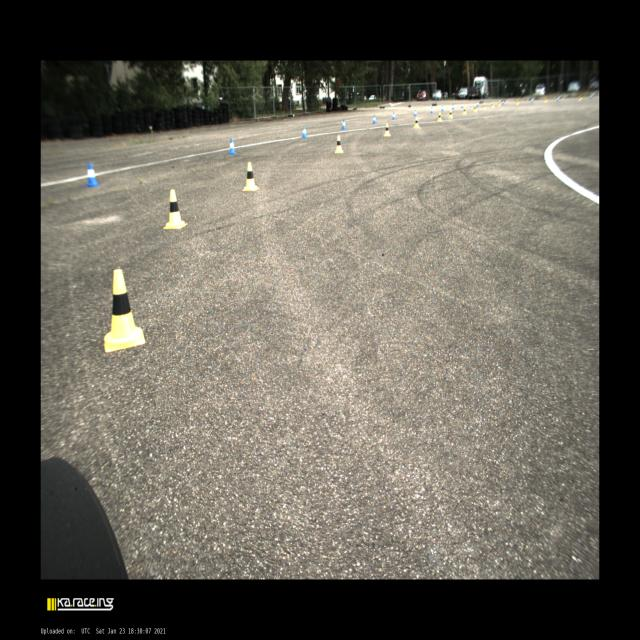blue_cone: (84, 162, 100, 186), (228, 138, 237, 154), (302, 126, 308, 138), (372, 115, 377, 124), (342, 119, 346, 130), (413, 109, 418, 117), (392, 112, 396, 120), (440, 105, 444, 112), (430, 106, 433, 113), (461, 103, 464, 108), (476, 102, 479, 107), (531, 98, 534, 103), (452, 104, 454, 110), (502, 100, 503, 105)
yellow_cone: (104, 268, 145, 353), (163, 189, 188, 230), (242, 161, 259, 192), (334, 134, 344, 154), (383, 122, 391, 137), (414, 117, 420, 128), (437, 112, 442, 122), (449, 108, 453, 118), (462, 107, 467, 115), (474, 105, 477, 112), (483, 103, 486, 110), (516, 99, 519, 105), (544, 96, 547, 102), (492, 101, 494, 108), (498, 100, 500, 107)
